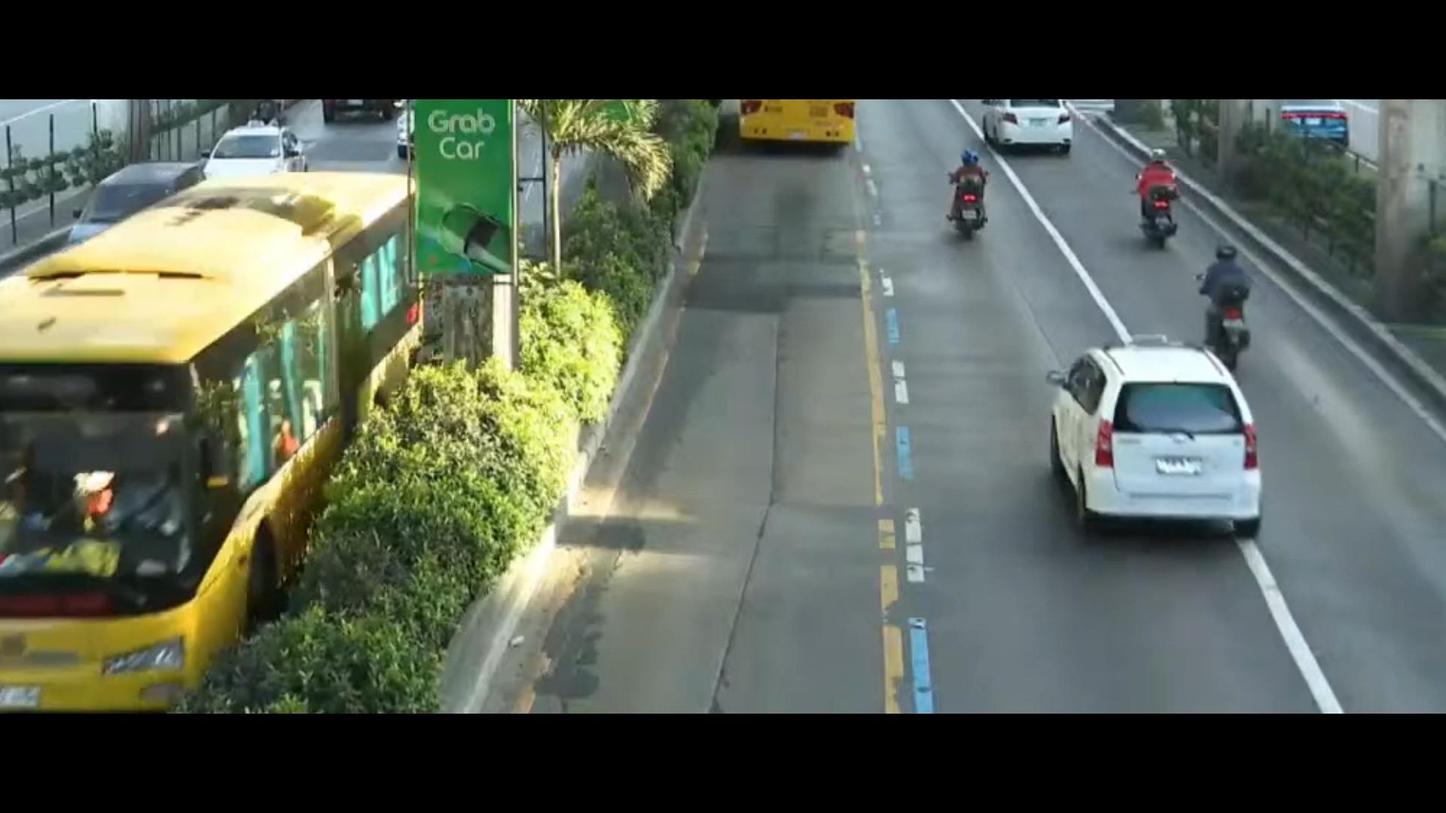Bus: (0, 171, 415, 707)
Motorcycle: (1094, 139, 1195, 266), (1184, 246, 1276, 360), (927, 144, 1002, 240)
SUV: (1022, 337, 1305, 551), (63, 146, 211, 256)
Sedan: (196, 123, 312, 173), (975, 97, 1086, 146)
